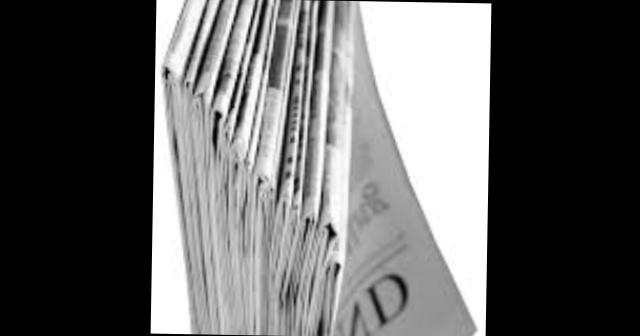cardboard paper: (159, 0, 473, 336)
